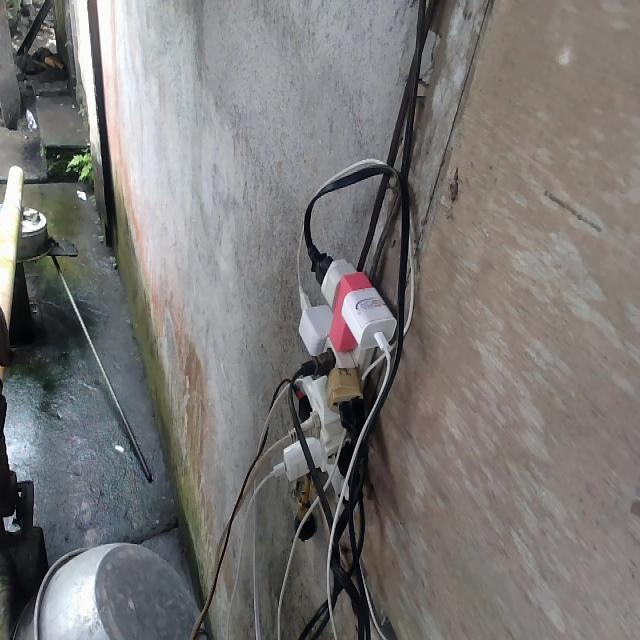-: (271, 251, 398, 493)
